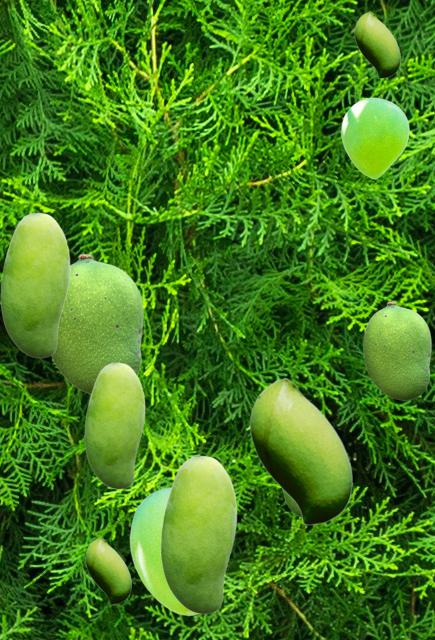green_mango: (249, 377, 351, 524), (51, 253, 142, 394), (160, 455, 236, 613), (0, 212, 69, 357), (129, 487, 199, 614), (84, 362, 144, 488), (363, 301, 430, 399), (341, 97, 408, 178), (354, 11, 399, 77), (85, 537, 130, 603), (282, 490, 300, 516)
